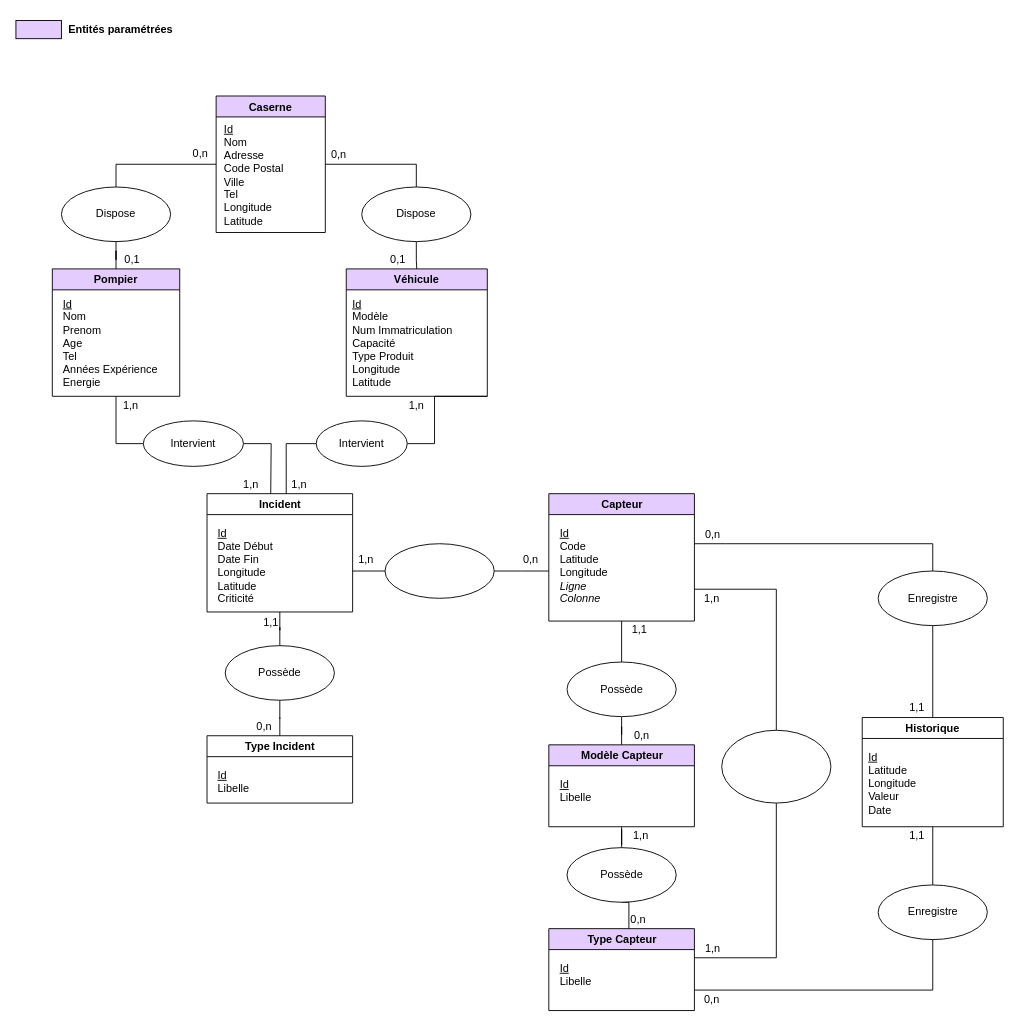
Image size: 1019x1030. Some labels were removed from this diagram. Each missing label, with the centre of its shape:
Détecte: (x=439, y=570)
Émet __________________ Valeur Date: (x=776, y=766)
